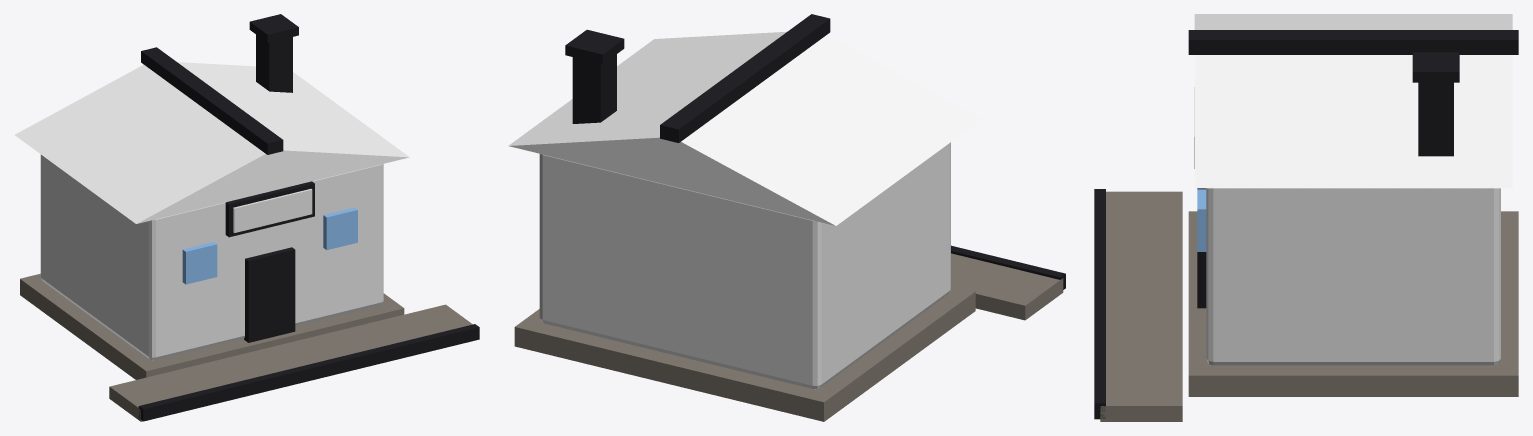
The model's file is town.glb.
3 views of the same model, side by side, from view 1: azimuth 30°, elevation 25°; view 2: azimuth 150°, elevation 25°; view 3: azimuth 270°, elevation 25° (orthographic). The views are drawn at different scales.
Parts seen in each view (by area): view 1: WALLS, ROOF, PLATFORM, PLINTH, PLATFORM_EDGE, DOOR, RIDGE_CAP, SIGN, CHIMNEY, WINDOW_-0.18, SIGN_BACK, WINDOW_0.18 (+1 smaller); view 2: WALLS, ROOF, PLINTH, RIDGE_CAP, PLATFORM, CHIMNEY, CHIMNEY_CAP, PLATFORM_EDGE; view 3: WALLS, ROOF, PLATFORM, PLINTH, RIDGE_CAP, PLATFORM_EDGE, CHIMNEY, CHIMNEY_CAP, WINDOW_0.18, DOOR.
Boxes of the visible parts, x1,y1,x2,y2 form: WALLS: (40,154,383,360); ROOF: (15,62,409,223); PLATFORM: (109,304,472,421); PLINTH: (20,273,404,379); PLATFORM_EDGE: (138,324,479,421); DOOR: (244,247,295,342); RIDGE_CAP: (141,47,283,154); SIGN: (233,189,312,233); CHIMNEY: (256,34,292,92); WINDOW_-0.18: (182,242,217,284); SIGN_BACK: (225,181,314,237); WINDOW_0.18: (323,207,357,249); WALLS: (539,142,950,389); ROOF: (508,31,981,225); PLINTH: (514,285,975,421); RIDGE_CAP: (660,14,830,142); PLATFORM: (951,253,1063,320); CHIMNEY: (572,54,616,123); CHIMNEY_CAP: (565,29,624,64); PLATFORM_EDGE: (951,245,1065,289); WALLS: (1206,188,1500,365); ROOF: (1194,14,1512,188); PLATFORM: (1100,191,1182,421); PLINTH: (1188,211,1518,396); RIDGE_CAP: (1188,30,1518,54); PLATFORM_EDGE: (1094,189,1105,419); CHIMNEY: (1418,82,1453,156); CHIMNEY_CAP: (1412,52,1459,82); WINDOW_0.18: (1197,189,1206,251); DOOR: (1197,188,1206,308).
Size of the model in its own units: 0.86 by 0.585 by 0.72.
